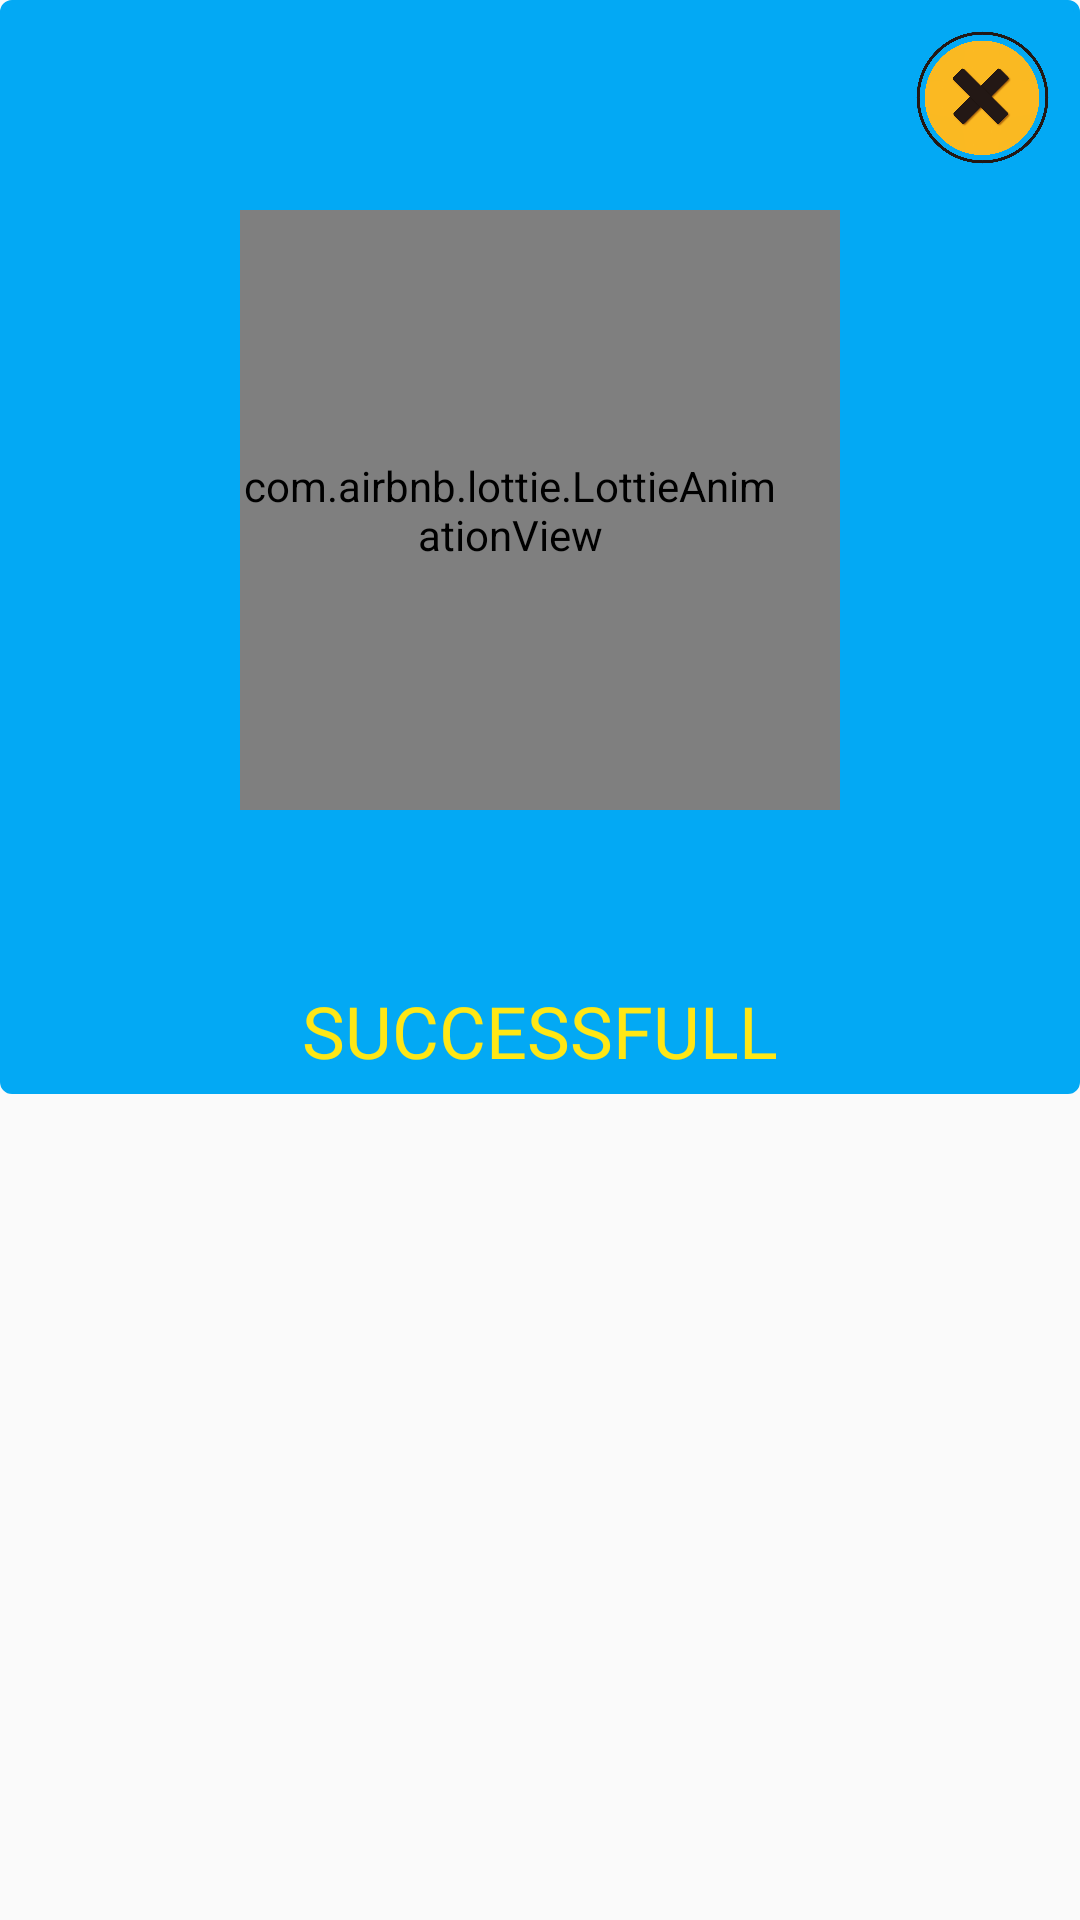

Named icons in this screenshot (1080 x 1920) and their centers, point (x, y):
backbutton: point (982, 97)
